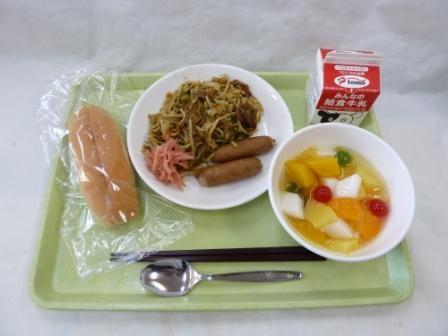Bread: (46, 101, 153, 239)
Fried noodles: (150, 76, 274, 146)
Milk: (303, 44, 393, 132)
salad with sauce: (138, 133, 200, 188)
sausages: (200, 135, 283, 192)
vegetable soup: (281, 134, 406, 253)
